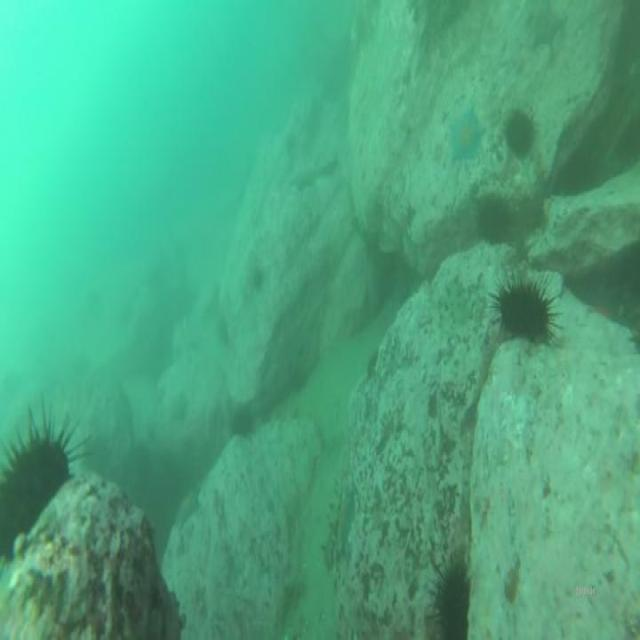echinus: (2, 436, 70, 556), (498, 281, 550, 337), (437, 573, 469, 640), (478, 193, 508, 246), (505, 109, 534, 155), (230, 408, 255, 436)
starfish: (448, 111, 484, 161), (176, 490, 199, 528), (339, 495, 353, 556)
